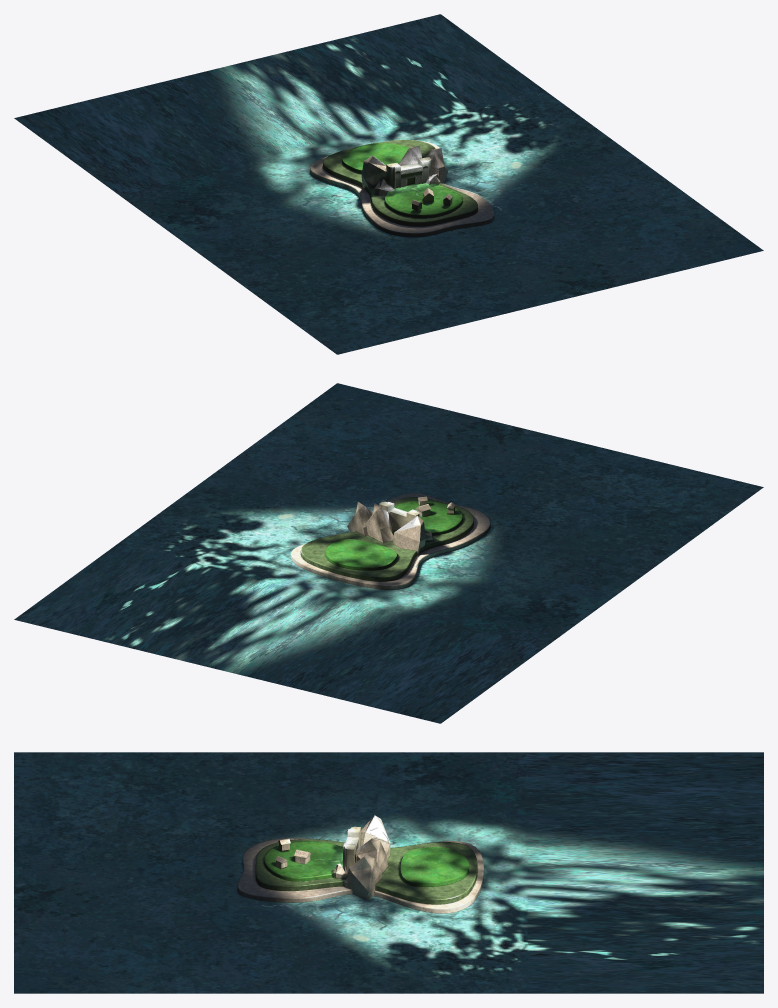
Rendered from dnd_map_02a.glb.
The picture shows the model from 3 angles, top to bottom: view 1: azimuth 30°, elevation 25°; view 2: azimuth 150°, elevation 25°; view 3: azimuth 270°, elevation 25°; orthographic projection. The views are drawn at different scales.
Parts seen in each view (by area): view 1: map-01; view 2: map-01; view 3: map-01.
Part boxes in pixels (<box>): map-01: <box>14,14,763,354</box>; map-01: <box>14,383,763,723</box>; map-01: <box>14,752,763,993</box>.
Size of the model in its own units: 37.41 by 4.9 by 49.09.
1 material, 1 textured.
